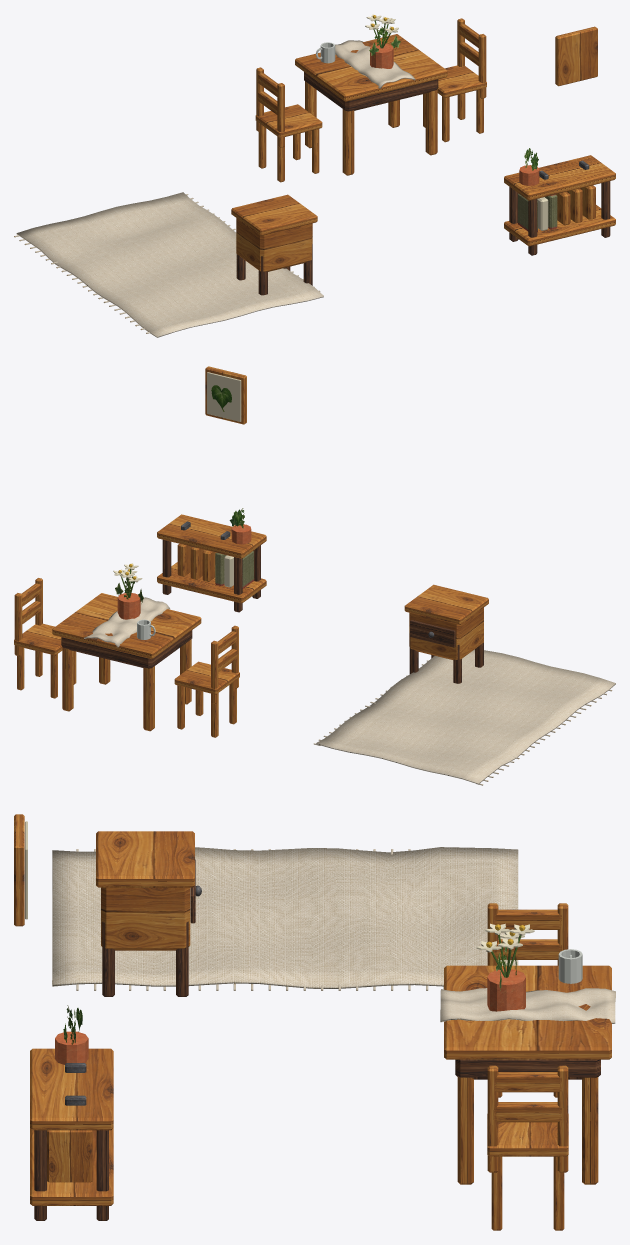
Rendered from InteriorCozy_Furniture.fbx.
The picture shows the model from 3 angles, top to bottom: view 1: azimuth 30°, elevation 25°; view 2: azimuth 150°, elevation 25°; view 3: azimuth 270°, elevation 25°; orthographic projection. The views are drawn at different scales.
Parts seen in each view (by area): view 1: InteriorCozy_Furniture; view 2: InteriorCozy_Furniture; view 3: InteriorCozy_Furniture.
Part boxes in pixels (x1,y1,x2,y2): InteriorCozy_Furniture: (14,14,615,337); InteriorCozy_Furniture: (14,366,615,785); InteriorCozy_Furniture: (14,814,615,1230).
Bounding box in the file's own units: 4.58 × 2.05 × 3.1.
